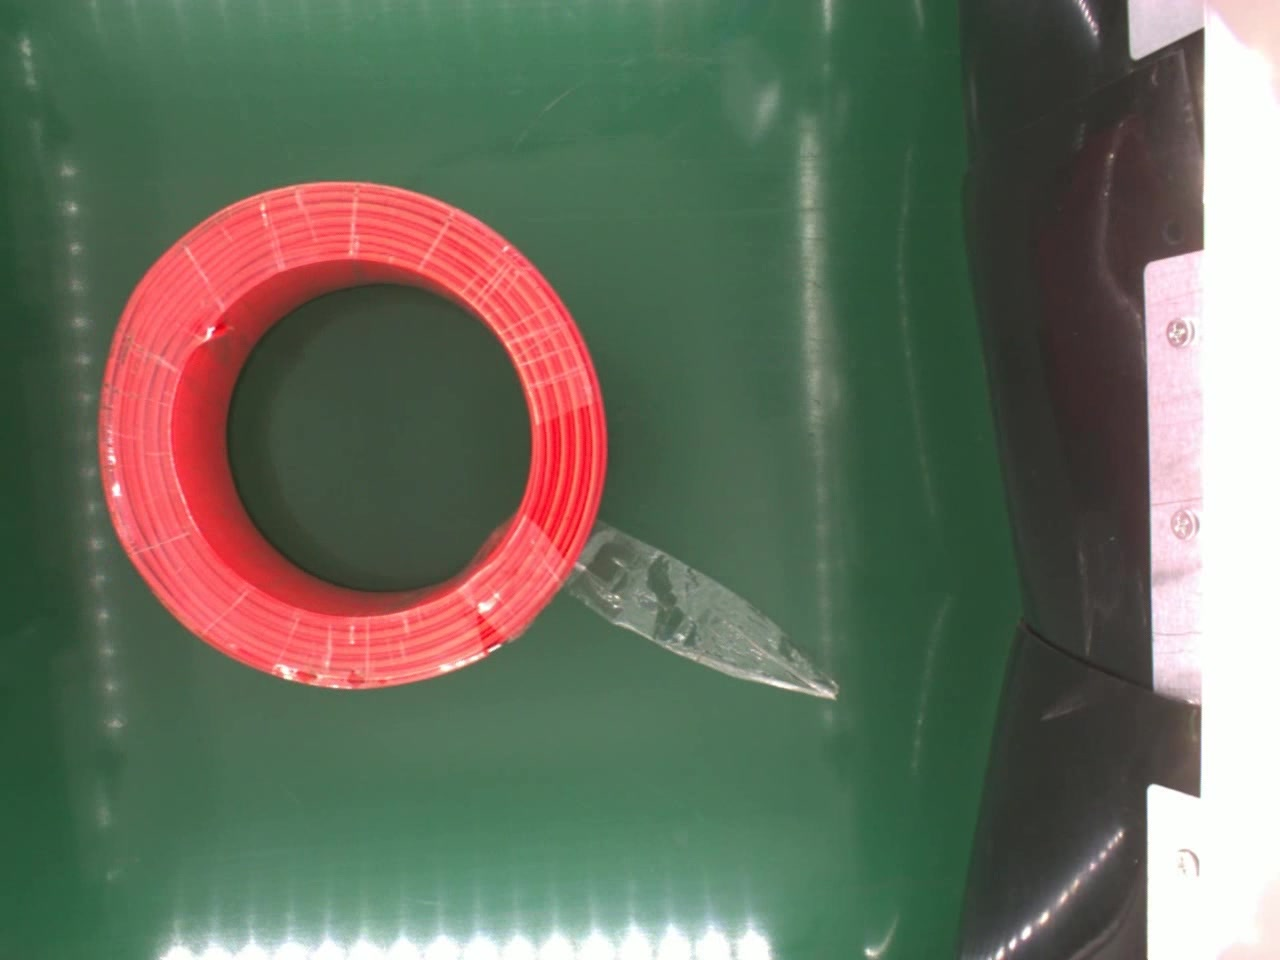red: (95, 178, 606, 694)
